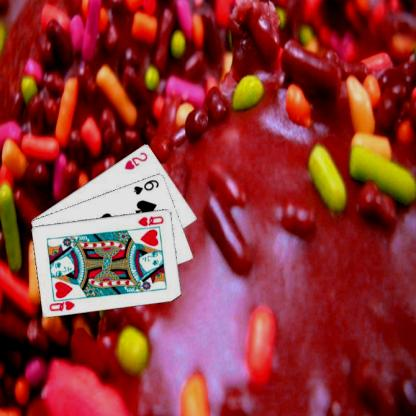2H: (122, 149, 149, 171)
6S: (131, 177, 160, 196)
QH: (46, 295, 79, 312), (136, 213, 166, 227)
